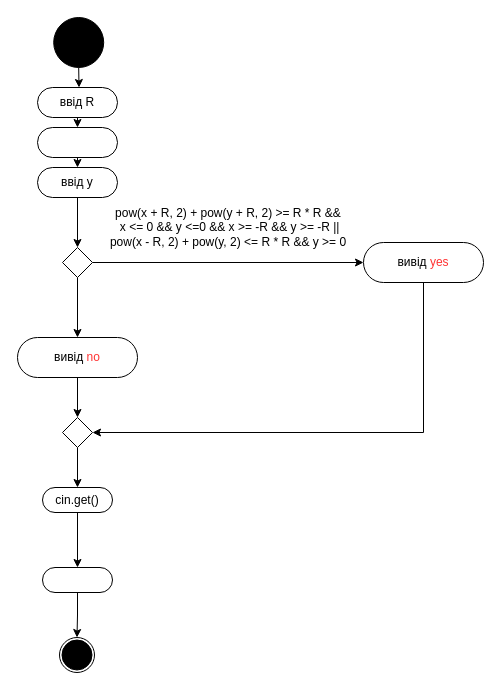
Some shapes in this 501 by 690 pixel diagram are drawn without their labels. Each missing label, with the centre of its shape:
"return 0" belongs at [77,579].
"ввід x" belongs at [77,142].
